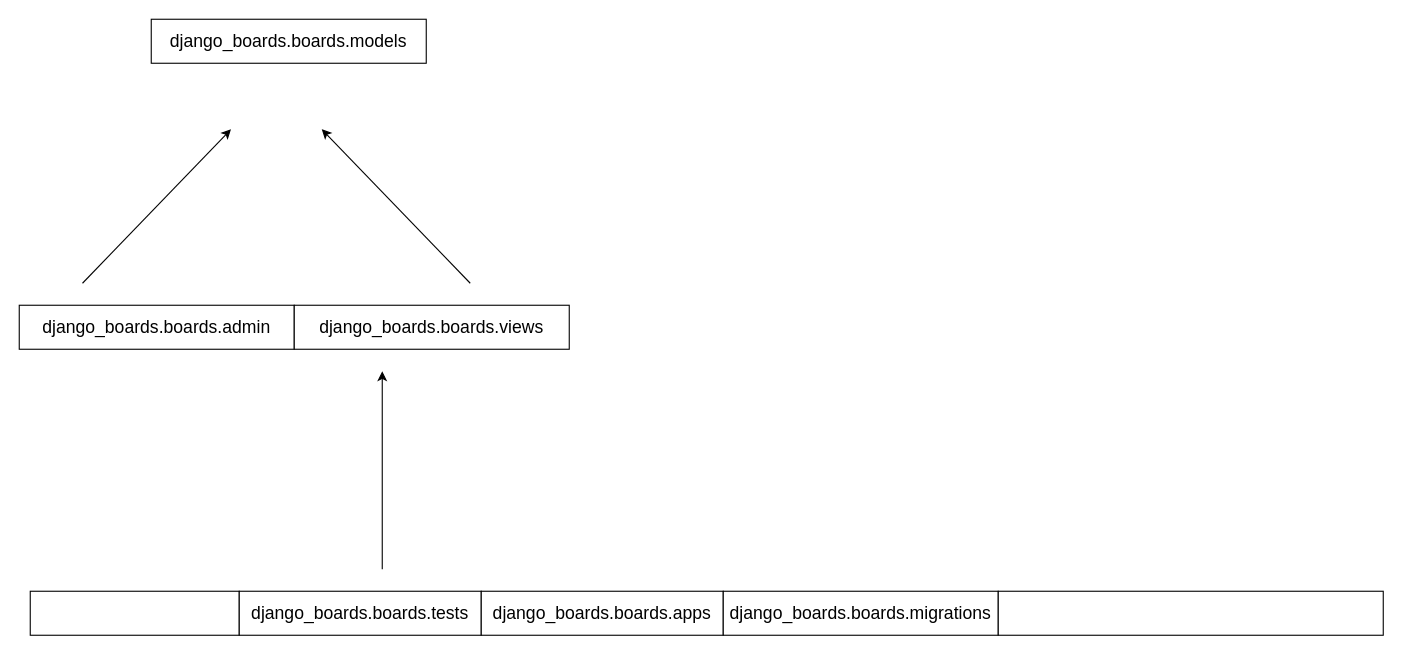
The diagram is 1403 pixels wide and 663 high, and some of its shapes have lost their labels. Here are the shapes that lost their labels. From the top down, the box of each, then its label:
(29, 590, 239, 635): django_boards.boards
(997, 590, 1383, 635): django_boards.boards.migrations.0001_initial
